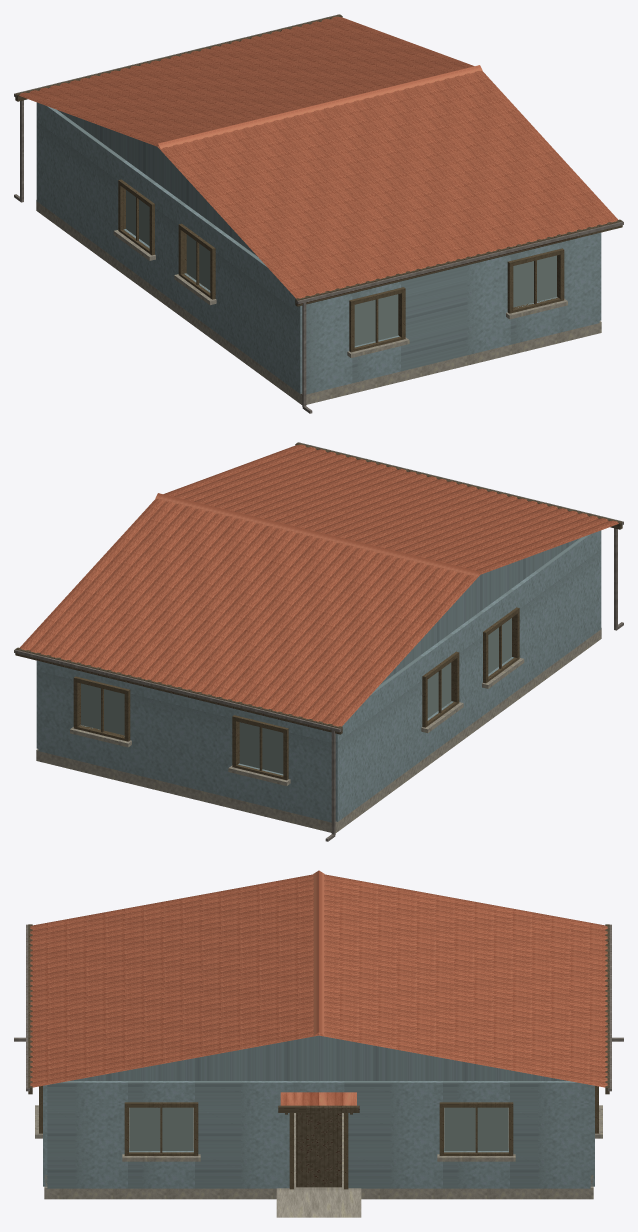
3 views of the same model, one above another, from view 1: azimuth 30°, elevation 25°; view 2: azimuth 150°, elevation 25°; view 3: azimuth 270°, elevation 25° (orthographic). The views are drawn at different scales.
Visible parts, largest first — view 1: H08_TELHAS, H08_FUNDOS, H08_LATERAIS, H08_FUNDACAO, H08_VIDROS_RECUADOS, H08_CAIXILHOS, H08_OITOES, H08_BEIRAIS, H08_CUMEEIRA, H08_CALHA, H08_PEITORIS, H08_CONDUTOR_PLUVIAL (+1 smaller); view 2: H08_TELHAS, H08_FUNDOS, H08_LATERAIS, H08_FUNDACAO, H08_VIDROS_RECUADOS, H08_CAIXILHOS, H08_OITOES, H08_BEIRAIS, H08_CUMEEIRA, H08_CALHA, H08_PEITORIS, H08_CONDUTOR_PLUVIAL (+1 smaller); view 3: H08_TELHAS, H08_FACHADA, H08_OITOES, H08_FUNDACAO, H08_VIDROS_RECUADOS, H08_PORTA_FOLHA, H08_CAIXILHOS, H08_RAMPA, H08_CUMEEIRA, H08_BEIRAIS, H08_PEITORIS, H08_ALPENDRE_COBERTURA (+4 smaller).
Boxes of the visible parts, <box> form: H08_TELHAS: <box>19,16,618,298</box>; H08_FUNDOS: <box>36,102,302,393</box>; H08_LATERAIS: <box>306,233,599,394</box>; H08_FUNDACAO: <box>36,200,601,404</box>; H08_VIDROS_RECUADOS: <box>126,190,556,345</box>; H08_CAIXILHOS: <box>118,179,564,352</box>; H08_OITOES: <box>57,110,257,256</box>; H08_BEIRAIS: <box>15,14,622,306</box>; H08_CUMEEIRA: <box>156,65,482,148</box>; H08_CALHA: <box>14,14,623,304</box>; H08_PEITORIS: <box>113,230,567,357</box>; H08_CONDUTOR_PLUVIAL: <box>20,100,306,407</box>; H08_TELHAS: <box>19,444,618,726</box>; H08_FUNDOS: <box>335,530,601,821</box>; H08_LATERAIS: <box>38,661,331,822</box>; H08_FUNDACAO: <box>36,628,601,832</box>; H08_VIDROS_RECUADOS: <box>81,618,511,773</box>; H08_CAIXILHOS: <box>73,607,519,780</box>; H08_OITOES: <box>380,538,580,684</box>; H08_BEIRAIS: <box>15,442,622,734</box>; H08_CUMEEIRA: <box>155,493,481,576</box>; H08_CALHA: <box>14,442,623,732</box>; H08_PEITORIS: <box>70,658,524,785</box>; H08_CONDUTOR_PLUVIAL: <box>331,528,617,835</box>; H08_TELHAS: <box>30,874,607,1087</box>; H08_FACHADA: <box>47,1081,590,1188</box>; H08_OITOES: <box>70,1035,567,1080</box>; H08_FUNDACAO: <box>44,1108,593,1199</box>; H08_VIDROS_RECUADOS: <box>129,1107,508,1150</box>; H08_PORTA_FOLHA: <box>296,1113,341,1187</box>; H08_CAIXILHOS: <box>39,1086,598,1155</box>; H08_RAMPA: <box>276,1190,361,1217</box>; H08_CUMEEIRA: <box>313,870,324,1035</box>; H08_BEIRAIS: <box>28,924,609,1094</box>; H08_PEITORIS: <box>35,1105,602,1161</box>; H08_ALPENDRE_COBERTURA: <box>280,1092,356,1105</box>.
Bounding box in the file's own units: 9.38 × 4.28 × 13.7.
8 materials, 7 textured.
